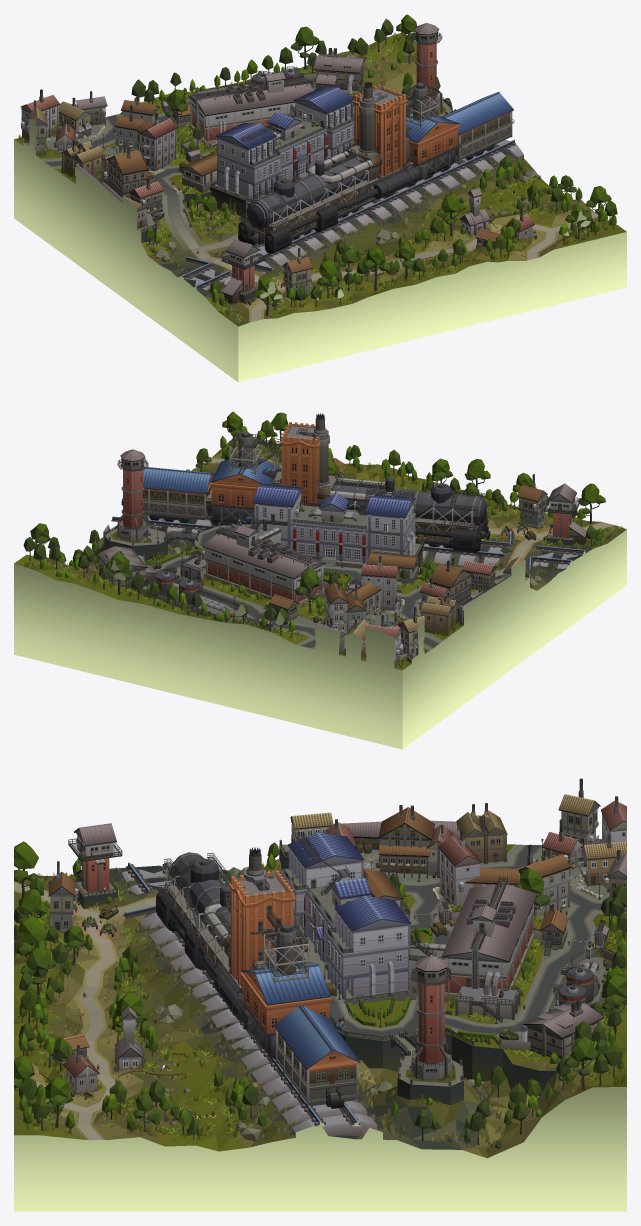
File: Steam_Ops.glb
3 views of the same model, one above another, from view 1: azimuth 30°, elevation 25°; view 2: azimuth 150°, elevation 25°; view 3: azimuth 270°, elevation 25° (orthographic). The views are drawn at different scales.
Parts seen in each view (by area): view 1: Cylinder.018_Material_0 (×3); view 2: Cylinder.018_Material_0 (×3); view 3: Cylinder.018_Material_0 (×3).
Part boxes in pixels (left/top/right/bottom): Cylinder.018_Material_0 (×3): left=14, top=14, right=626, bottom=382; Cylinder.018_Material_0 (×3): left=14, top=411, right=626, bottom=749; Cylinder.018_Material_0 (×3): left=14, top=778, right=626, bottom=1211.
Bounding box in the file's own units: 1600 × 716 × 1600.
1 material, 1 textured.
